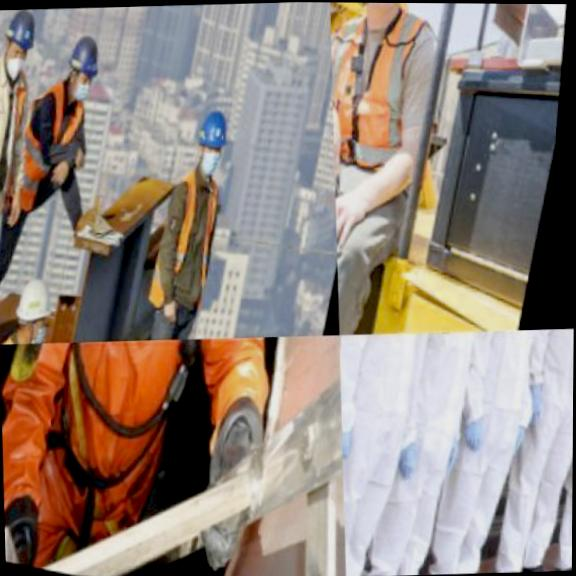safety_vest: (0, 335, 287, 563), (419, 328, 565, 576), (355, 329, 501, 576), (339, 332, 451, 576), (486, 328, 574, 573), (330, 2, 444, 180), (10, 78, 102, 238), (150, 165, 240, 318), (0, 60, 52, 214)
